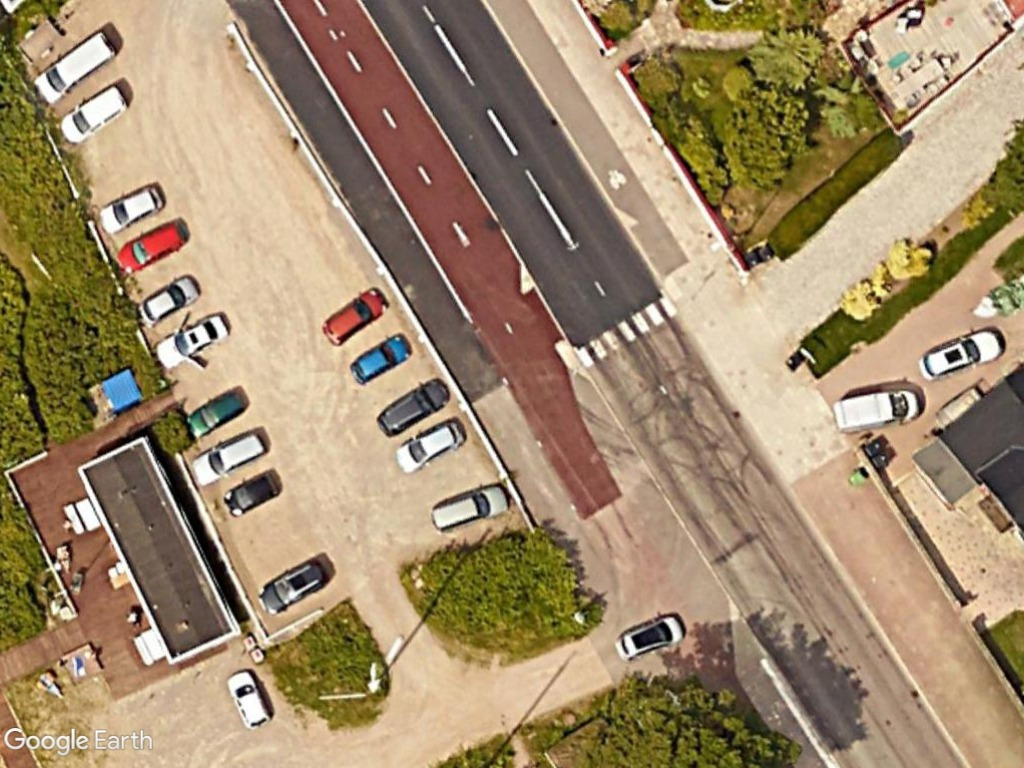car: (371, 375, 450, 445), (253, 552, 333, 620), (188, 424, 268, 490), (917, 326, 1007, 381), (393, 414, 466, 479), (319, 283, 390, 349), (115, 215, 190, 277), (427, 481, 510, 537), (614, 608, 691, 665), (96, 182, 167, 237), (132, 271, 200, 327), (348, 332, 414, 389), (187, 382, 248, 443), (226, 667, 274, 732), (221, 471, 278, 522)
van: (32, 28, 119, 106), (828, 384, 923, 436), (58, 81, 130, 148)
